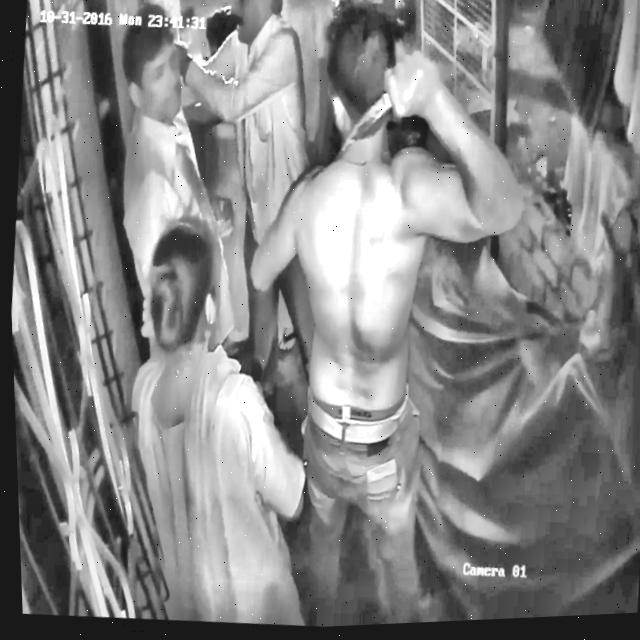pisau: (332, 52, 448, 167)
